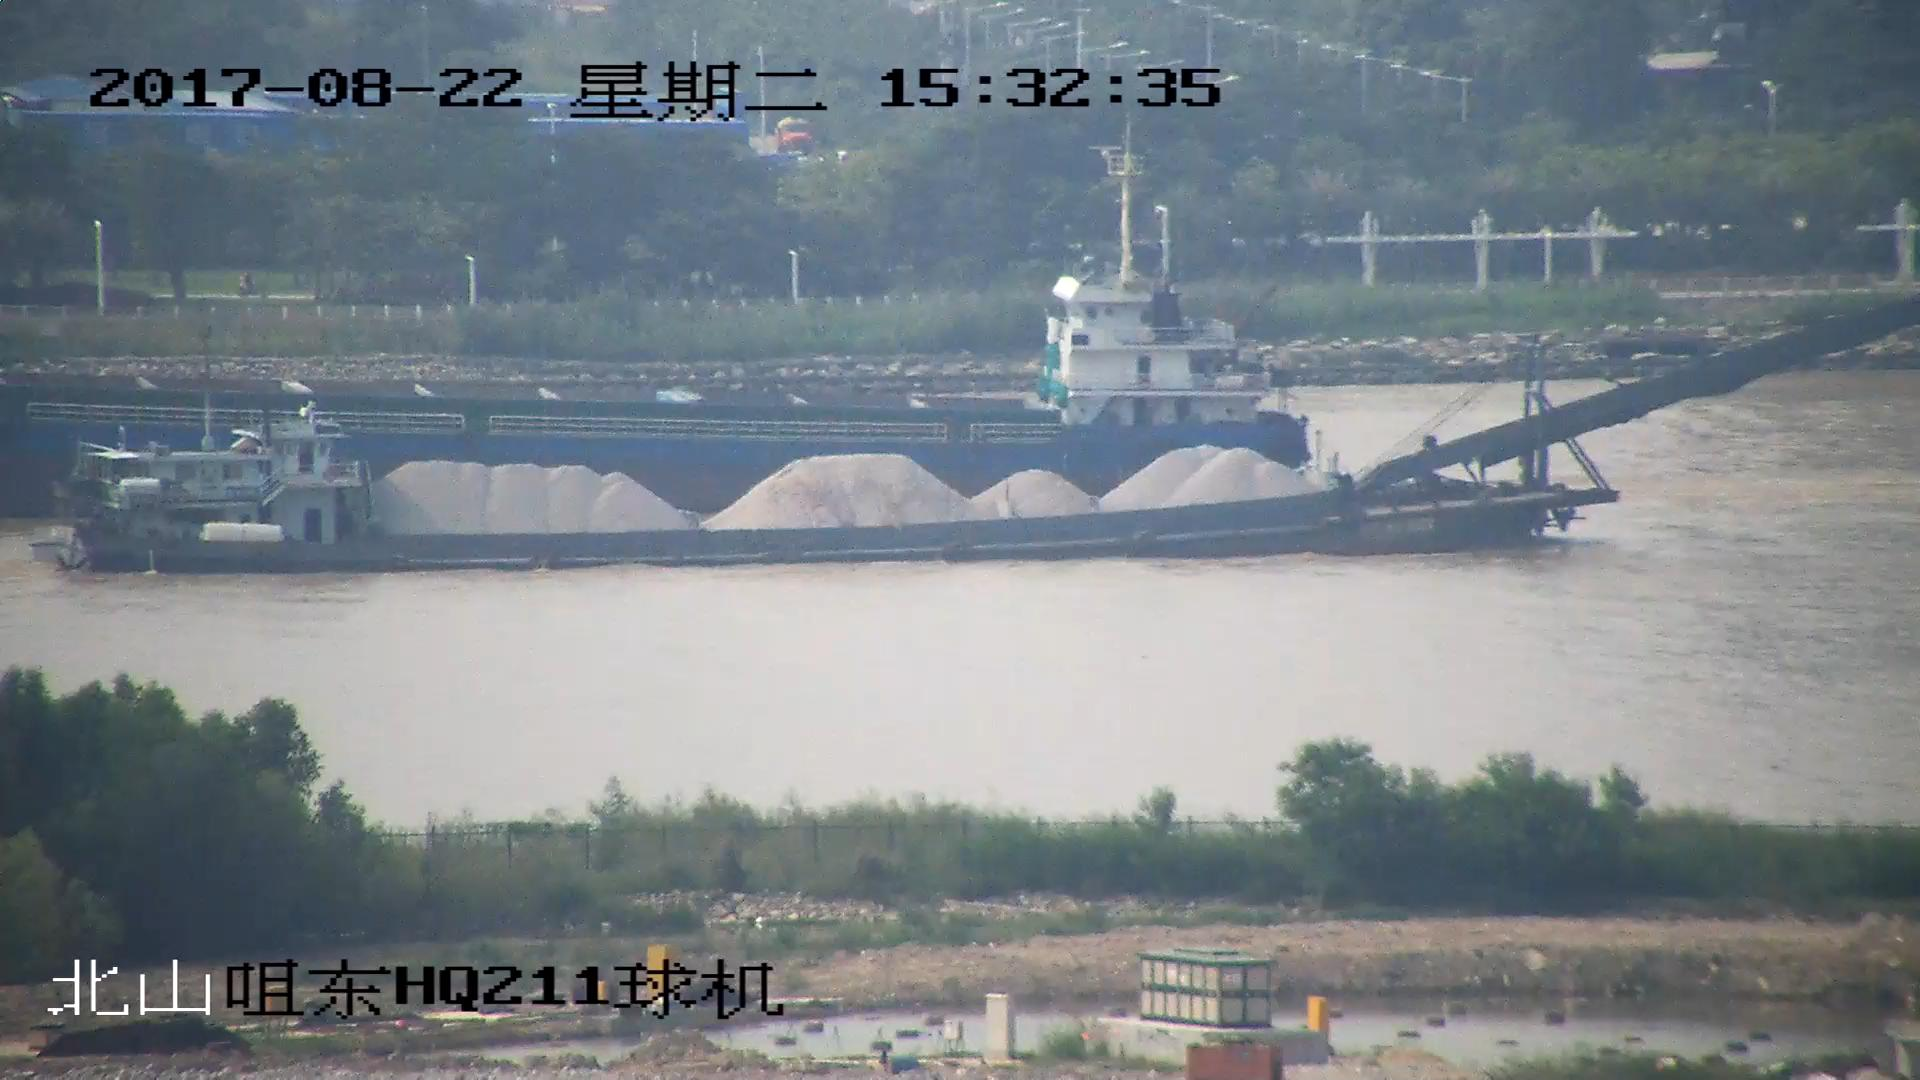bulk cargo carrier: (1, 143, 1319, 482)
ore carrier: (44, 295, 1920, 578)
